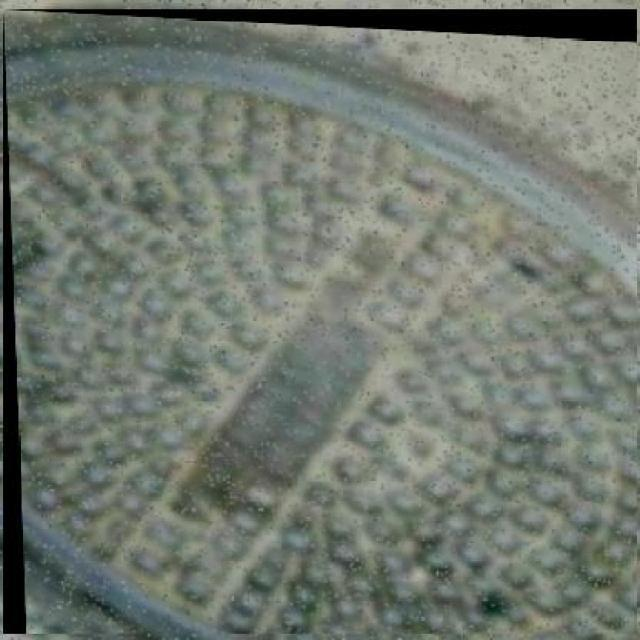Manhole: (4, 10, 638, 635)
